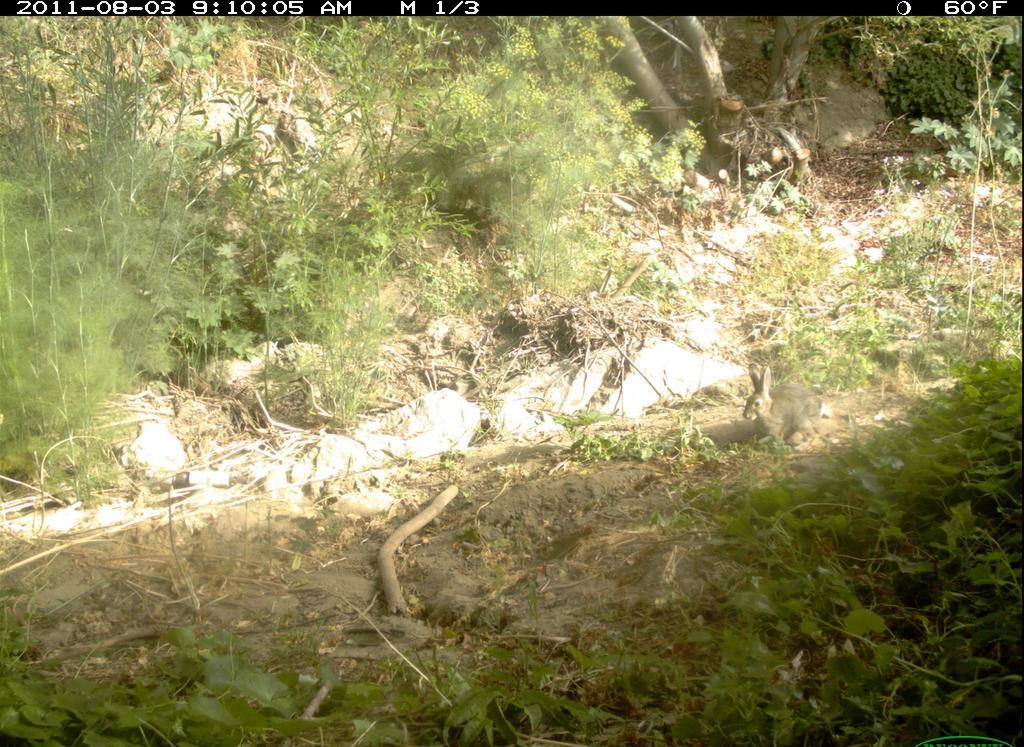rabbit: (742, 355, 835, 463)
